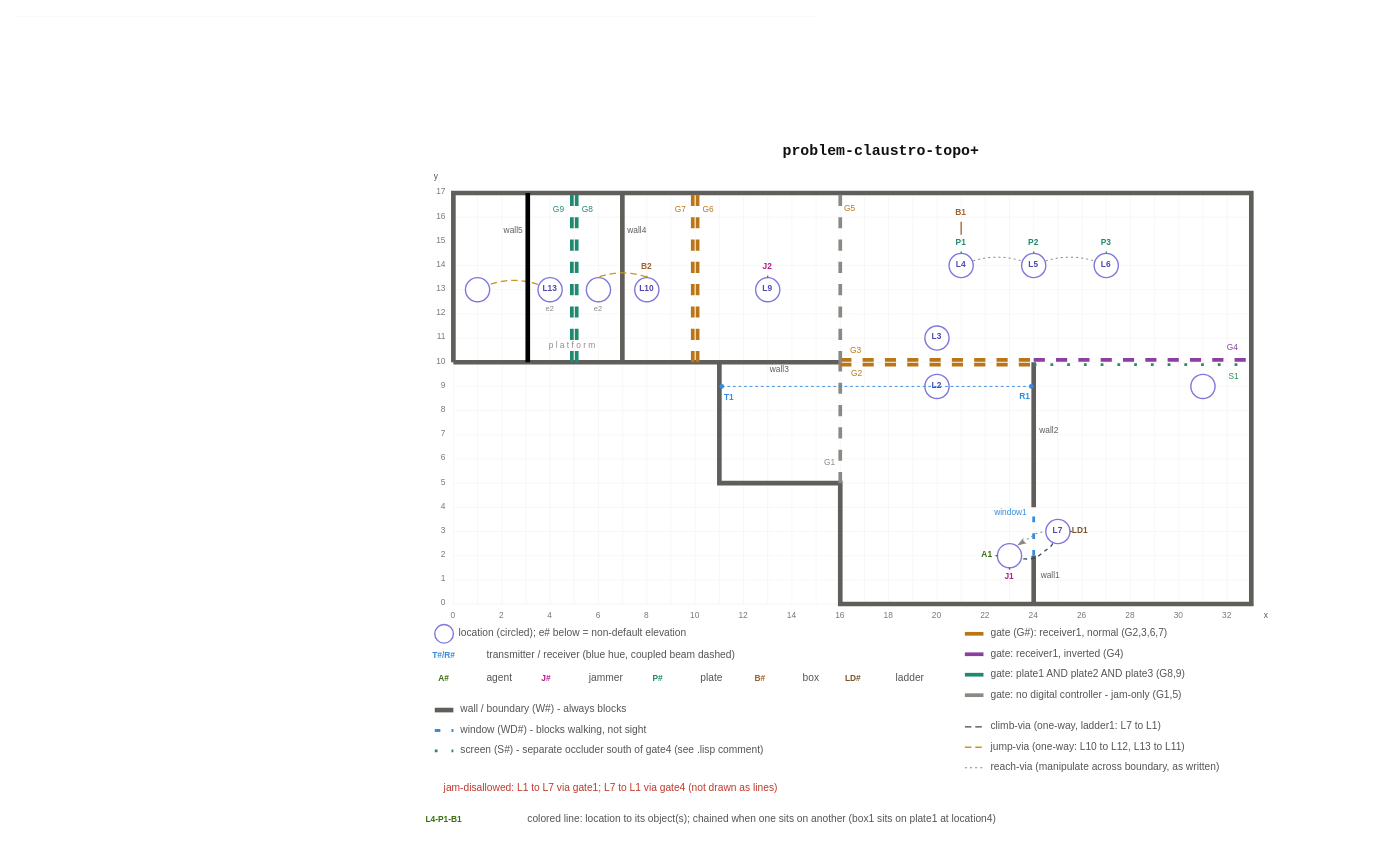
Some shapes in this 1381 by 864 pixel diagram are drawn without their labels. The shapes that lost their labels are listed below. From the top down, each one's centre as x and y in pixels, then its label:
pixel 477 289: L11
pixel 598 289: L12
pixel 1202 386: L8
pixel 1009 555: L1
pixel 444 633: L#
